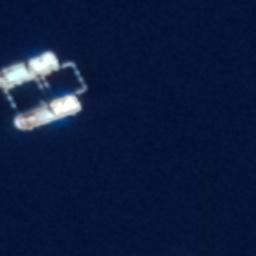square_solid: (2, 73, 53, 120), (39, 58, 91, 103)
